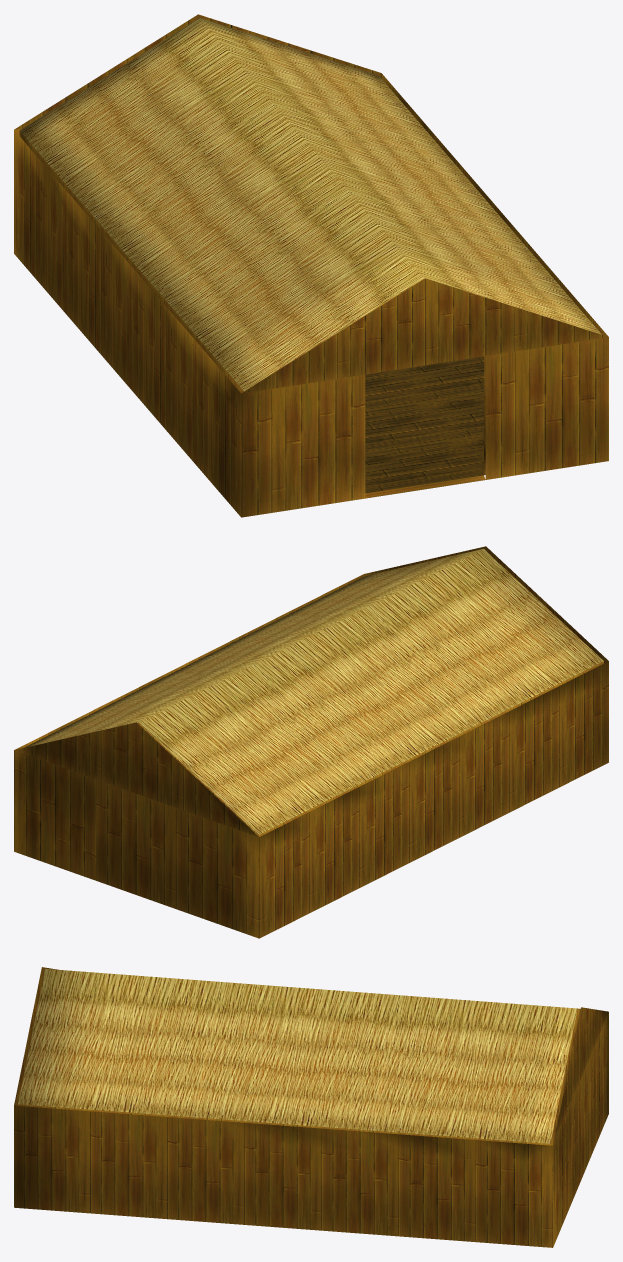
Rendered from HTOWN01_CHICKENCOOP.fbx.
3 views of the same model, one above another, from view 1: azimuth 30°, elevation 25°; view 2: azimuth 150°, elevation 25°; view 3: azimuth 270°, elevation 25° (orthographic). The views are drawn at different scales.
Visible parts, largest first — view 1: HTOWN01_CHICKENCOOP; view 2: HTOWN01_CHICKENCOOP; view 3: HTOWN01_CHICKENCOOP.
Boxes of the visible parts, bbox=[...] form: HTOWN01_CHICKENCOOP: bbox=[14, 14, 608, 517]; HTOWN01_CHICKENCOOP: bbox=[14, 546, 608, 938]; HTOWN01_CHICKENCOOP: bbox=[14, 967, 608, 1247].
Bounding box in the file's own units: 77981 × 36261 × 112509.
3 materials, 3 textured.
